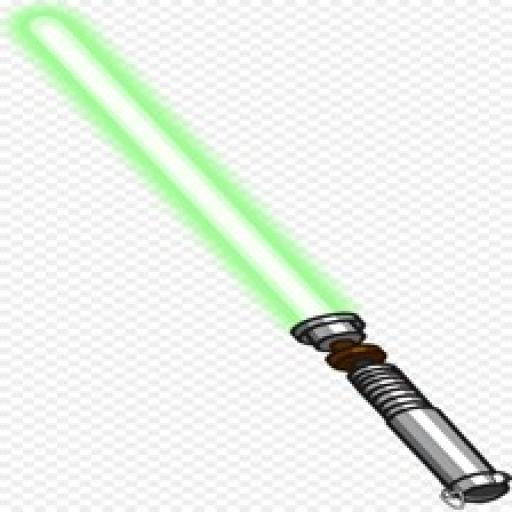lightsaber: (24, 13, 507, 508)
